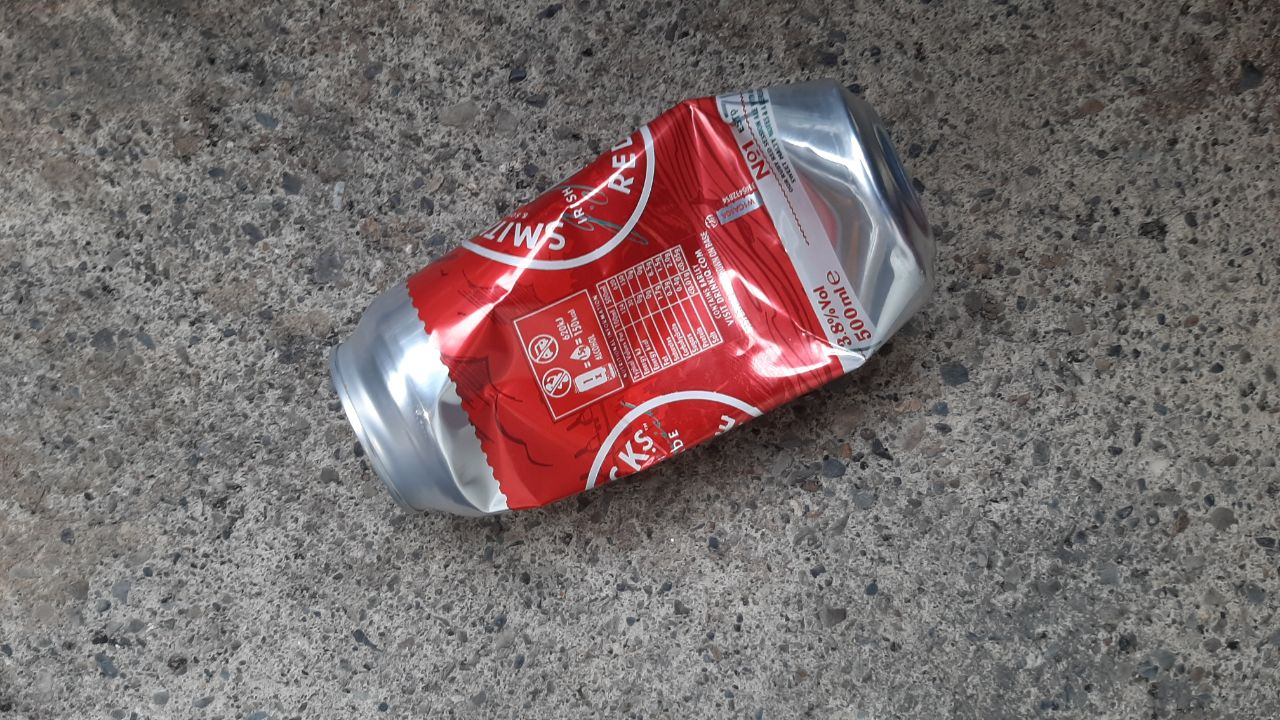Can: (325, 83, 939, 517)
